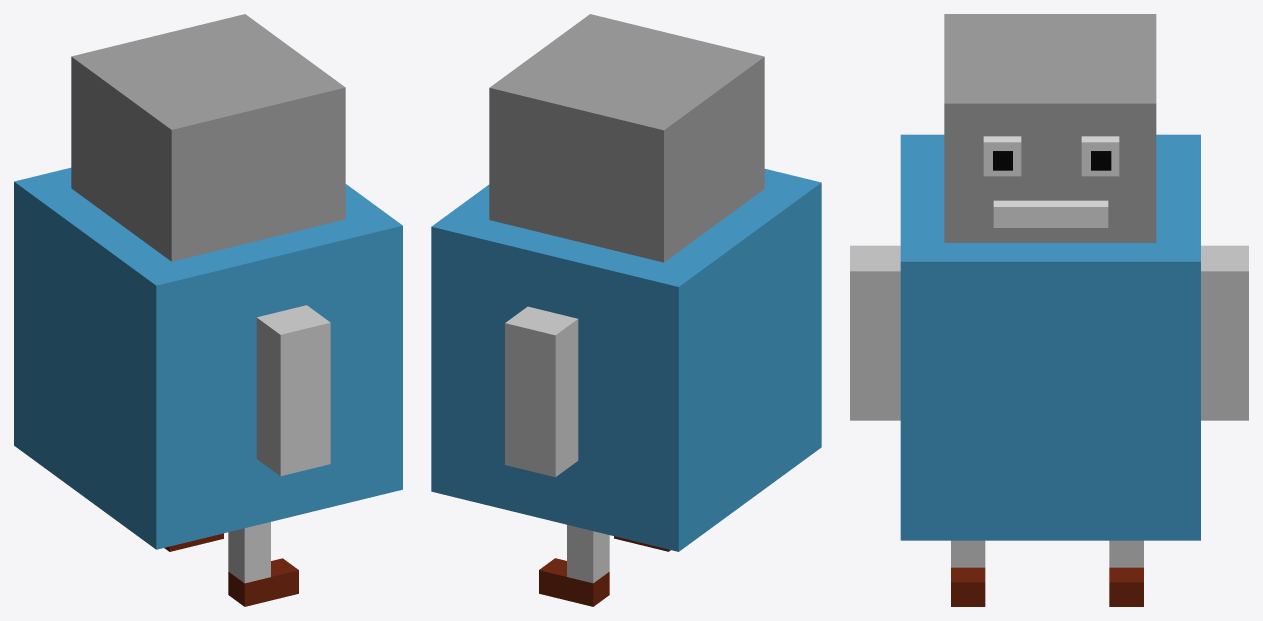
The model's file is human.fbx.
3 views of the same model, side by side, from view 1: azimuth 30°, elevation 25°; view 2: azimuth 150°, elevation 25°; view 3: azimuth 270°, elevation 25° (orthographic). The views are drawn at different scales.
Visible parts, largest first — view 1: Cube, Cube.003, Cube.005, Cube.002; view 2: Cube, Cube.003, Cube.004, Cube.001; view 3: Cube, Cube.003, Cube.005, Cube.004, Cube.010, Cube.001, Cube.002, Cube.006, Cube.007.
Boxes of the visible parts, bbox=[...] form: Cube: bbox=[14, 167, 402, 549]; Cube.003: bbox=[71, 14, 345, 261]; Cube.005: bbox=[256, 305, 330, 476]; Cube.002: bbox=[228, 522, 298, 606]; Cube: bbox=[431, 169, 821, 551]; Cube.003: bbox=[489, 14, 764, 262]; Cube.004: bbox=[505, 306, 578, 477]; Cube.001: bbox=[539, 525, 609, 606]; Cube: bbox=[900, 134, 1200, 540]; Cube.003: bbox=[944, 14, 1156, 242]; Cube.005: bbox=[850, 245, 900, 420]; Cube.004: bbox=[1201, 245, 1248, 420]; Cube.010: bbox=[993, 200, 1108, 227]; Cube.001: bbox=[1109, 540, 1143, 606]; Cube.002: bbox=[951, 540, 985, 606]; Cube.006: bbox=[983, 136, 1021, 176]; Cube.007: bbox=[1081, 136, 1119, 176].
Bounding box in the file's own units: 200 × 386 × 265.
